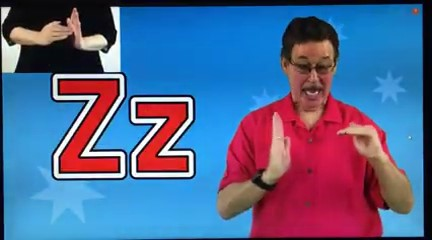Z: (32, 4, 96, 57)
